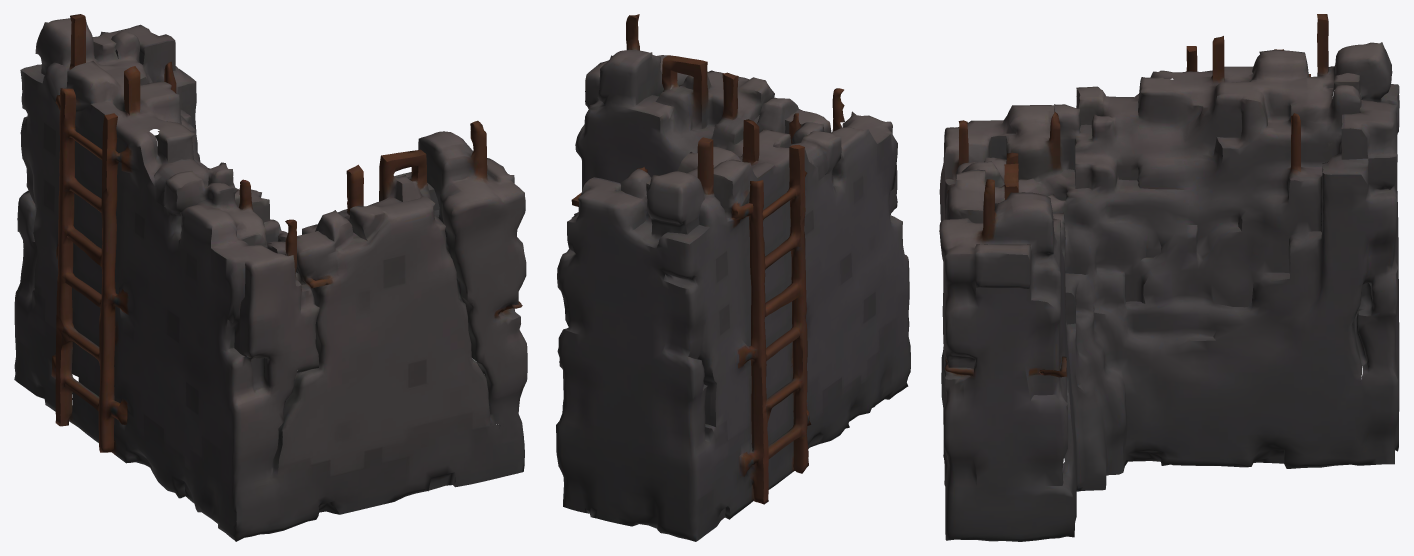
Rendered from building_corner.glb.
3 renders of one model, left to right at view 1: azimuth 30°, elevation 25°; view 2: azimuth 150°, elevation 25°; view 3: azimuth 270°, elevation 25°, orthographic. The views are drawn at different scales.
Parts seen in each view (by area): view 1: tripo_node_23164849; view 2: tripo_node_23164849; view 3: tripo_node_23164849.
Part boxes in pixels (x1=…): tripo_node_23164849: x1=14, y1=14, x2=527, y2=541; tripo_node_23164849: x1=556, y1=14, x2=910, y2=541; tripo_node_23164849: x1=939, y1=14, x2=1399, y2=541.
Bounding box in the file's own units: 79.49 × 94.37 × 99.89.
Materials: 1 (1 with a texture image).
